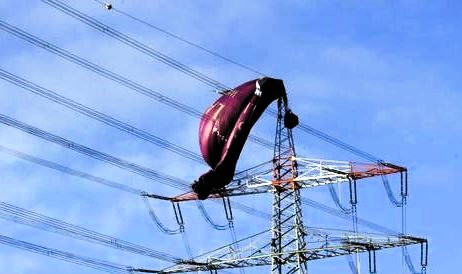wire foreign body: (188, 60, 290, 200)
